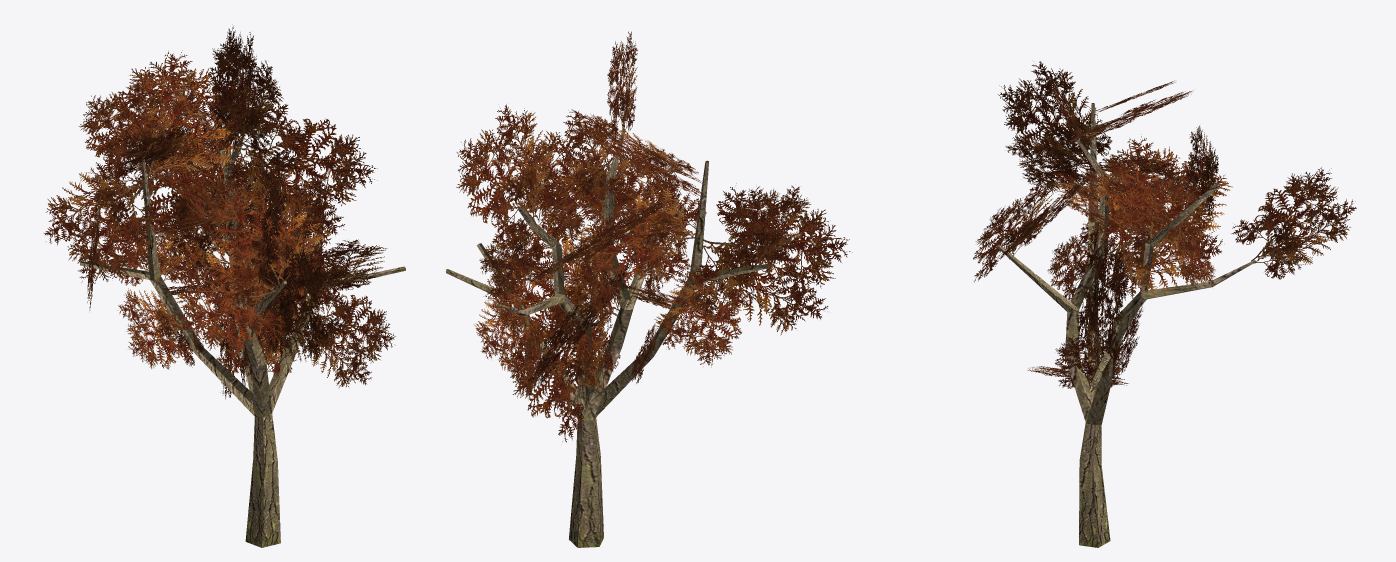
File: tree02.glb
3 renders of one model, left to right at view 1: azimuth 30°, elevation 25°; view 2: azimuth 150°, elevation 25°; view 3: azimuth 270°, elevation 25°, orthographic. The views are drawn at different scales.
Visible parts, largest first — view 1: treee02; view 2: treee02; view 3: treee02.
Boxes of the visible parts, x1=… form: treee02: x1=44, y1=26, x2=405, y2=547; treee02: x1=446, y1=31, x2=852, y2=547; treee02: x1=973, y1=61, x2=1356, y2=547.
Size of the model in its own units: 65.83 by 84.02 by 73.53.
1 material, 1 textured.
